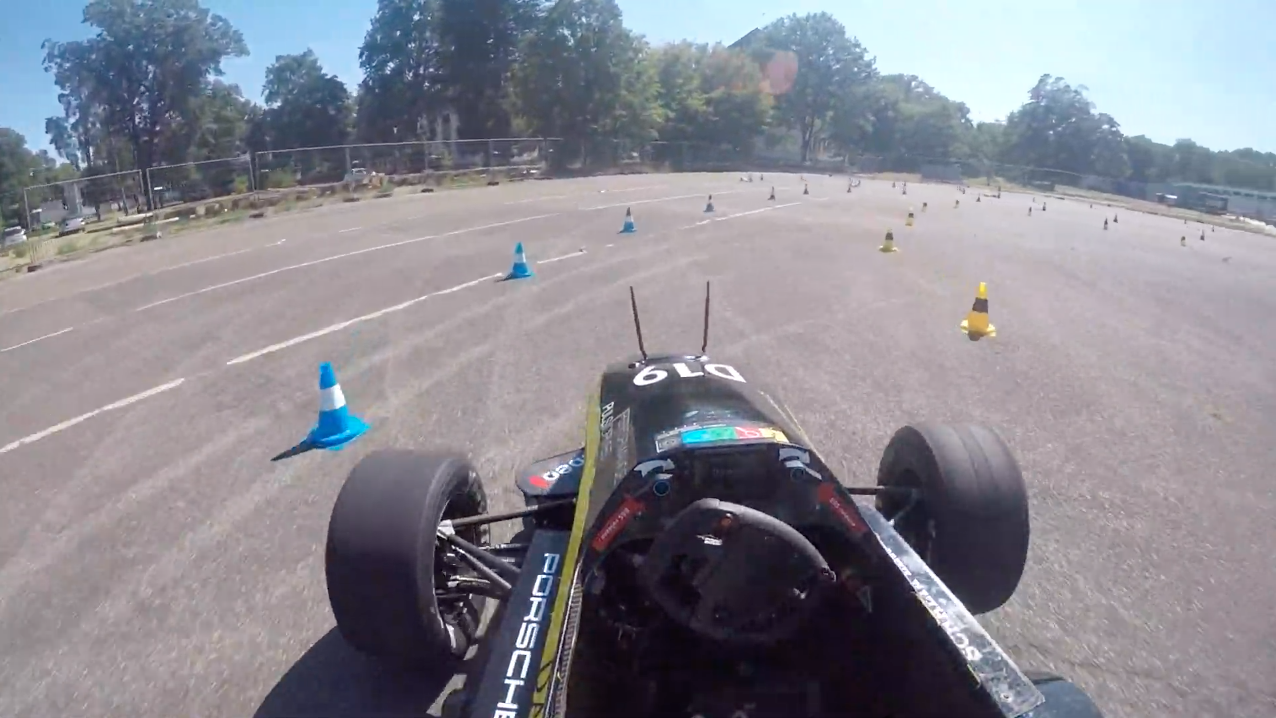lcone: (298, 359, 380, 455), (504, 239, 539, 282), (615, 204, 641, 236)
rcone: (955, 278, 1003, 339), (877, 224, 904, 254)
